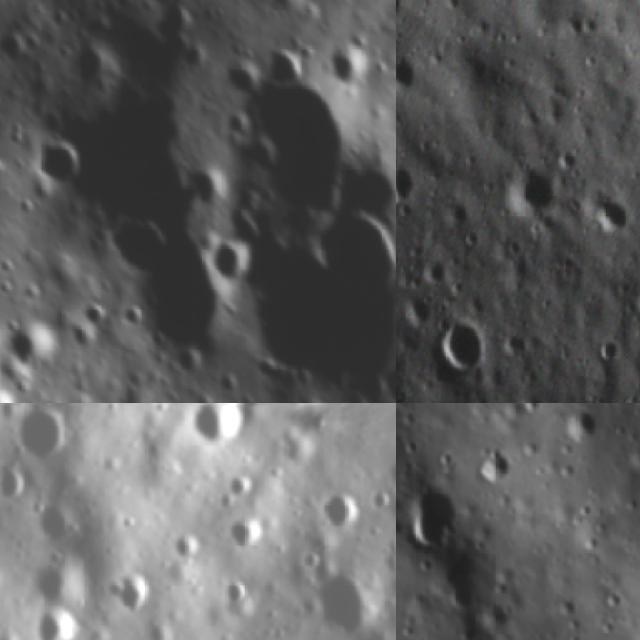crater: (230, 209, 396, 378), (225, 66, 347, 221), (109, 221, 217, 358), (300, 552, 391, 640), (324, 203, 396, 294), (396, 473, 461, 556), (429, 548, 500, 616), (11, 403, 82, 468), (23, 546, 89, 608), (502, 151, 556, 224), (100, 559, 160, 620), (438, 313, 490, 382), (311, 481, 376, 535), (188, 403, 255, 452), (5, 315, 56, 376), (32, 133, 85, 191), (31, 492, 83, 550), (218, 504, 268, 553), (592, 183, 631, 242), (560, 403, 611, 446), (31, 603, 88, 640), (482, 445, 527, 488), (154, 1, 198, 44), (396, 281, 431, 335), (212, 243, 248, 290), (265, 45, 309, 83), (330, 52, 371, 90), (0, 460, 31, 509), (226, 468, 264, 505), (396, 158, 420, 211), (396, 55, 424, 97), (377, 355, 396, 403)
